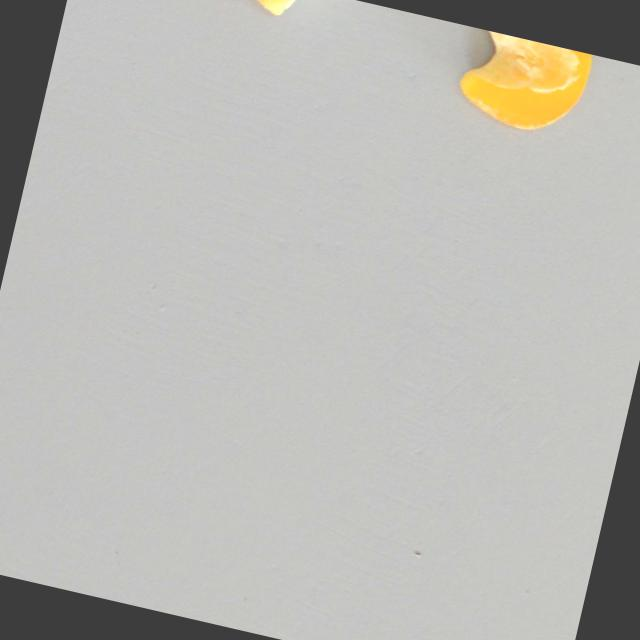dañado: (207, 0, 339, 33)
no_desgerminado: (450, 26, 598, 144)
